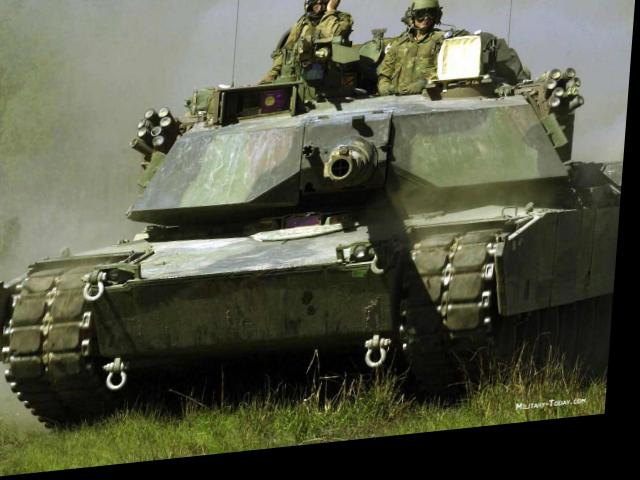other: (372, 0, 466, 106), (277, 0, 348, 89), (380, 32, 428, 105)
tank: (6, 71, 632, 423)
